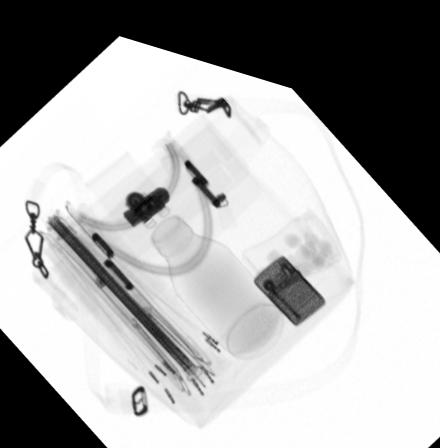Lighter: (253, 237, 326, 309)
